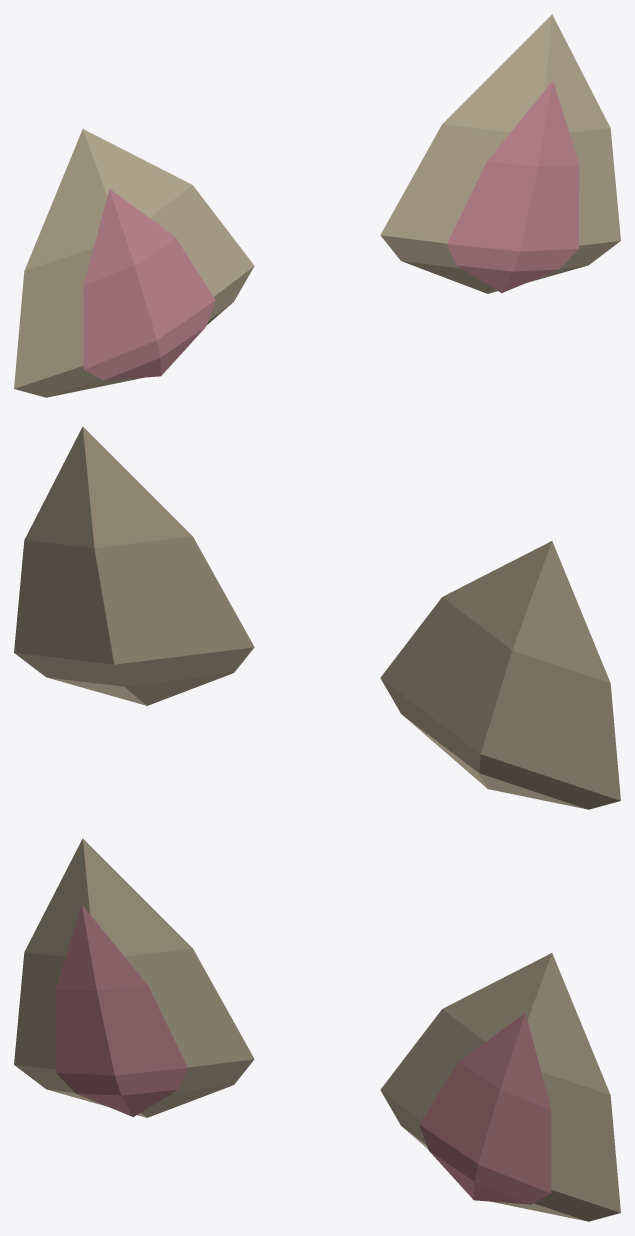
File: ville_cos_oreilles_chat.glb
The picture shows the model from 3 angles, top to bottom: view 1: azimuth 30°, elevation 25°; view 2: azimuth 150°, elevation 25°; view 3: azimuth 330°, elevation 25°; orthographic projection.
Visible parts, largest first — view 1: cos_oreilles_chat; view 2: cos_oreilles_chat; view 3: cos_oreilles_chat.
Boxes of the visible parts, <box> form: cos_oreilles_chat: <box>14,14,620,397</box>; cos_oreilles_chat: <box>14,426,620,809</box>; cos_oreilles_chat: <box>14,838,620,1221</box>.
Bounding box in the file's own units: 0.303 × 0.126 × 0.0356.
